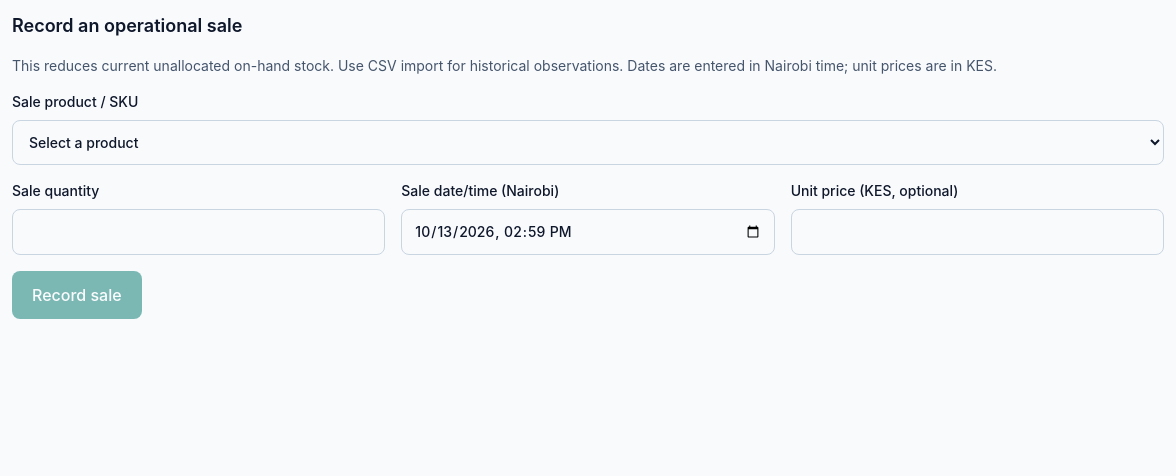
sale sends version, timezone, optional price and request key; reloads inventory
Step 1. Select "Rice · RICE-1" in the dropdown labelled "Sale product / SKU" → (588, 142), box [12,120,1164,165]
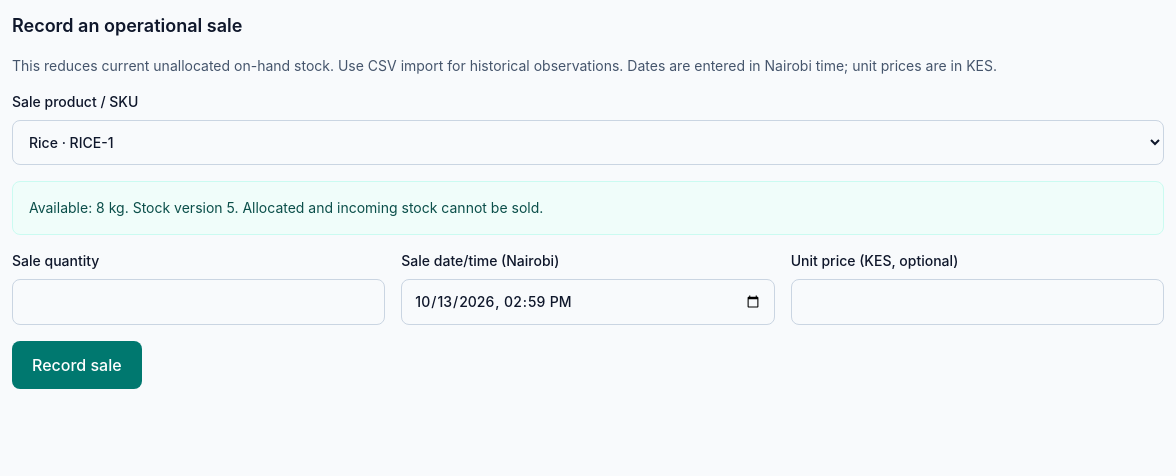
Step 2. Type "2.5" into the number field labelled "Sale quantity" → (199, 302), box [12,279,385,325]
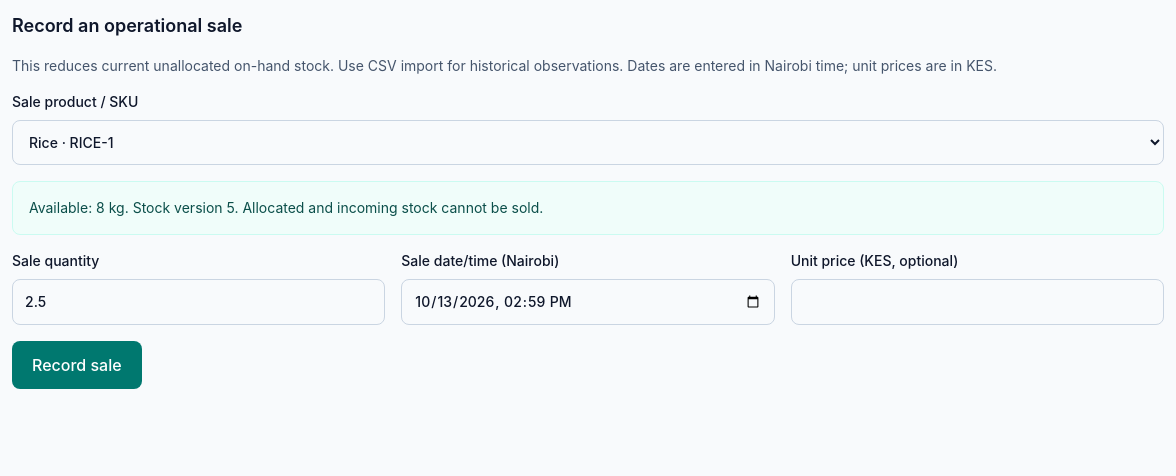
Step 3. Replace the text in the field labelled "Sale date/time (Nairobi)" with "2026-09-01T10:00" → (588, 302), box [401,279,775,325]
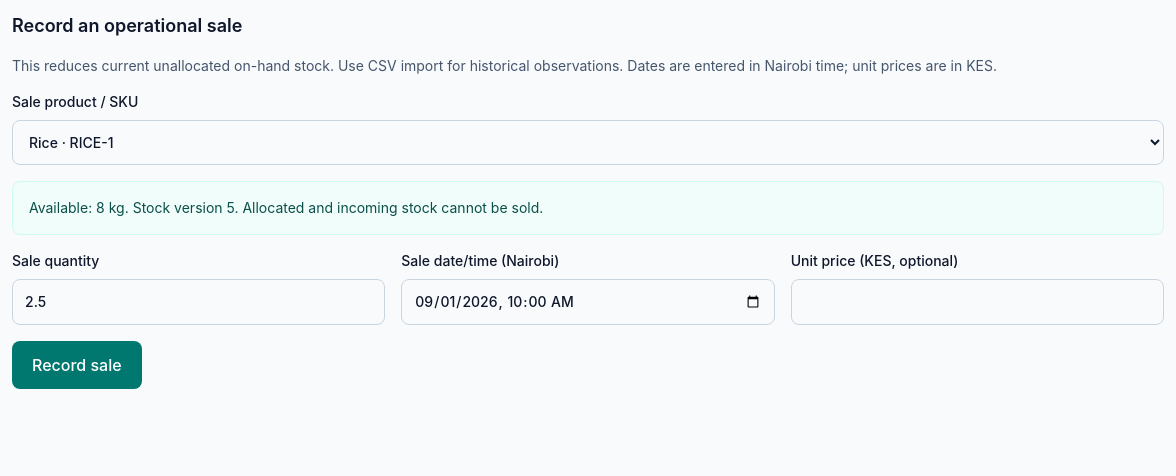
Expected: the text "Available: 8 kg" is shown, [12,181,1164,235]
Step 4. Click the button "Record sale" → click(77, 365), box [12,341,142,389]
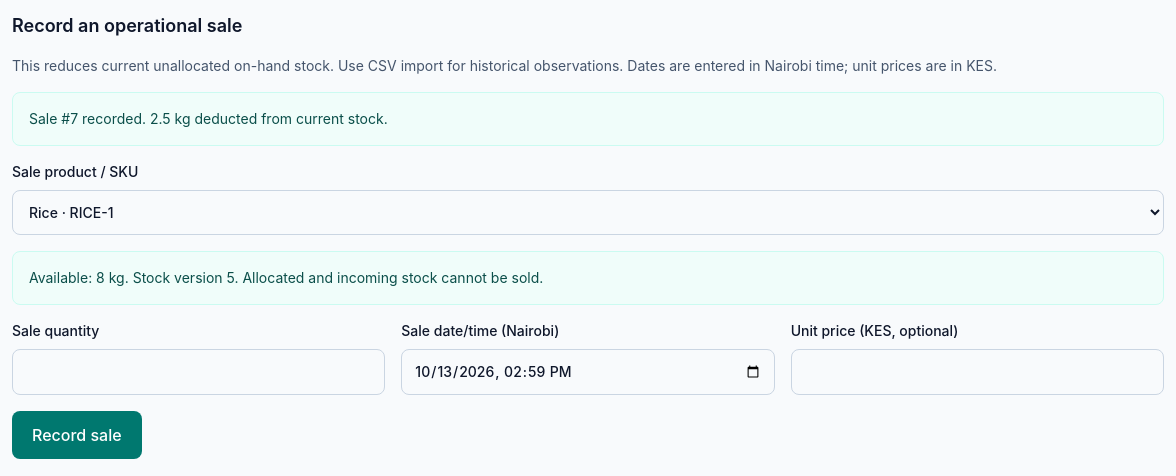
Expected: the message shows "Sale #7 recorded", [29,110,388,127]
